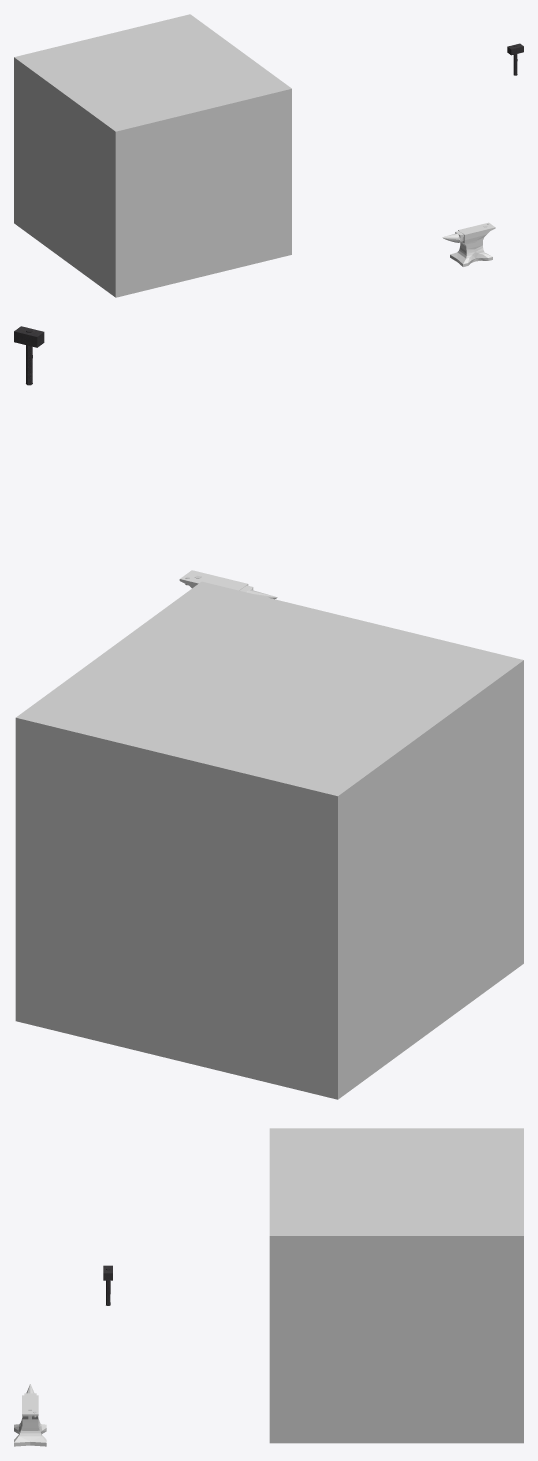
The model's file is smithshammer2.dae.
The picture shows the model from 3 angles, top to bottom: view 1: azimuth 30°, elevation 25°; view 2: azimuth 150°, elevation 25°; view 3: azimuth 270°, elevation 25°; orthographic projection. The views are drawn at different scales.
Parts seen in each view (by area): view 1: Cube_004, Cube_002; view 2: Cube_004; view 3: Cube_004, Cube_002.
Part boxes in pixels (bbox=[...]): Cube_004: bbox=[14, 14, 291, 297]; Cube_002: bbox=[442, 222, 495, 266]; Cube_004: bbox=[15, 581, 523, 1099]; Cube_004: bbox=[269, 1128, 523, 1443]; Cube_002: bbox=[14, 1384, 46, 1446].
Bounding box in the file's own units: 3.88 × 4.01 × 2.36.
Materials: 2 (2 with a texture image).
